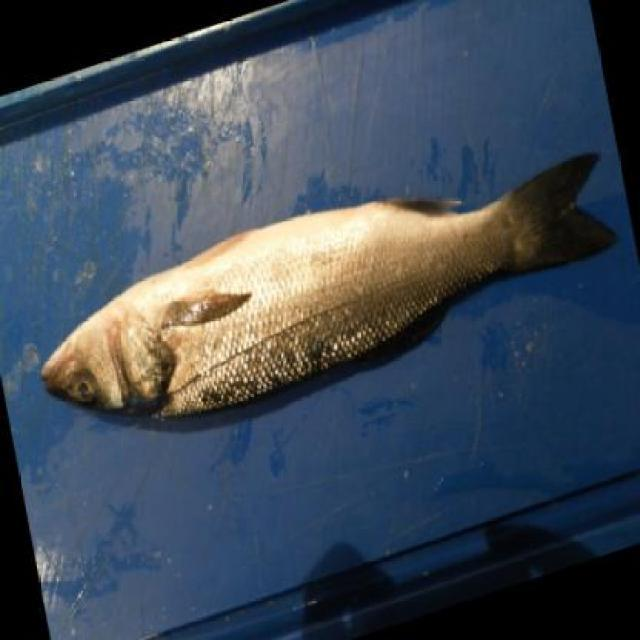Healthy Fish: (35, 149, 620, 420)
